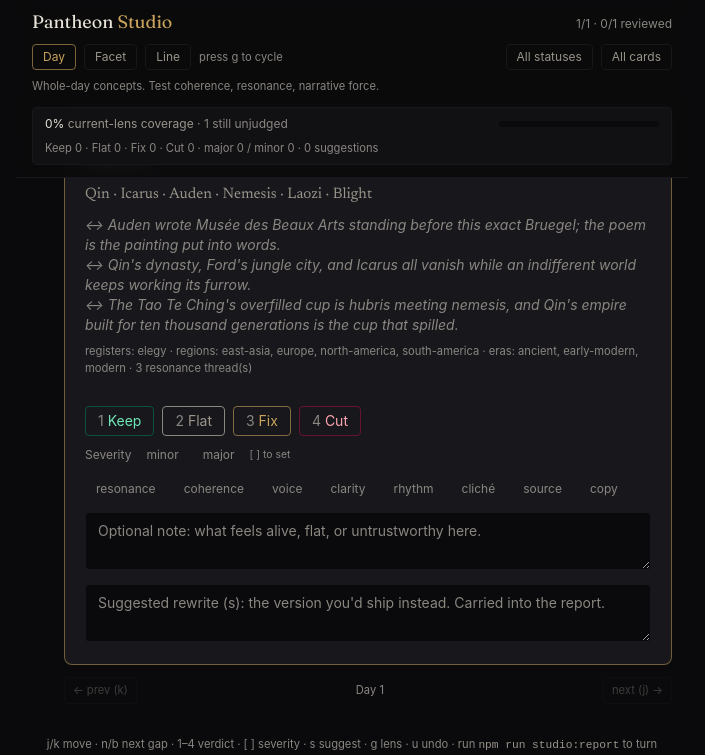
Scenario: Studio › can focus the feed on cards that still need judgment
The width and height of the screenshot is (705, 755).
(page scrolled)
Check: the heading "Hubris" is shown, box [85,148,150,173]
Click the button "1 Keep".
click(120, 421)  # box [85,406,154,436]
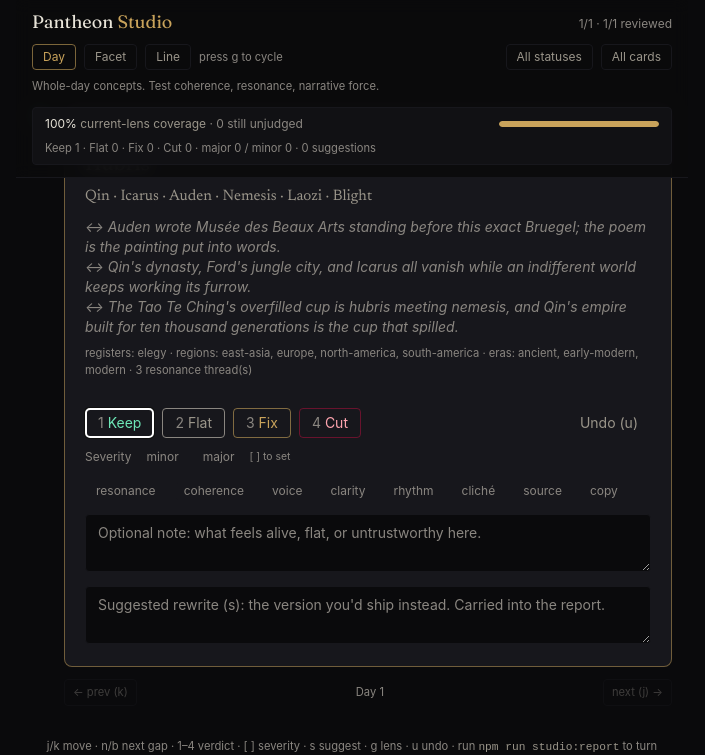
Click the button "All cards".
click(636, 57)  # box [601,44,672,70]
(page scrolled)
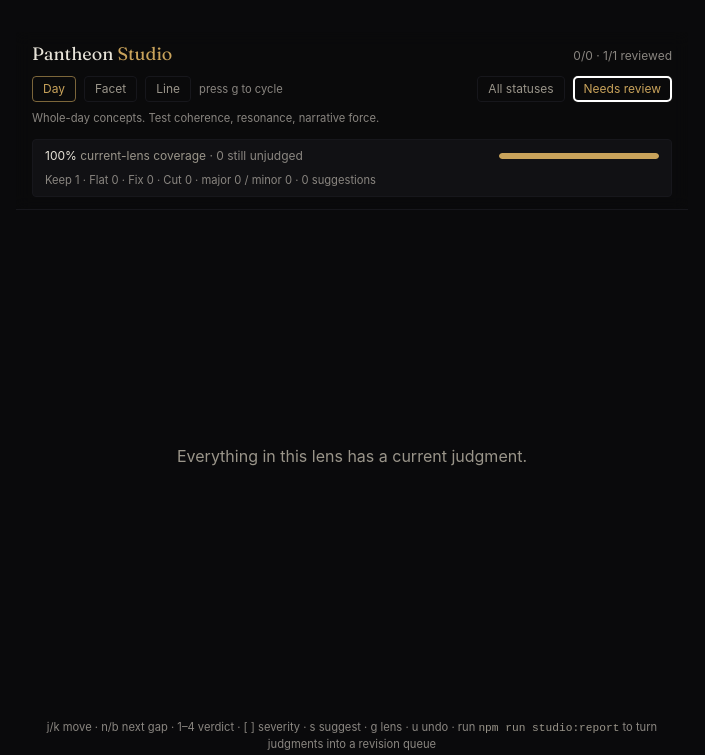
Check: the text "Everything in this lens has a current judgment." is shown, box [177,446,527,466]
